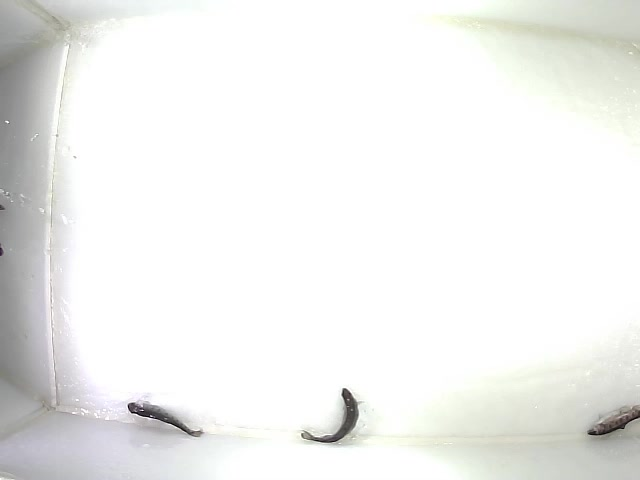fish: (299, 386, 366, 445), (126, 401, 205, 439), (586, 404, 640, 437)
